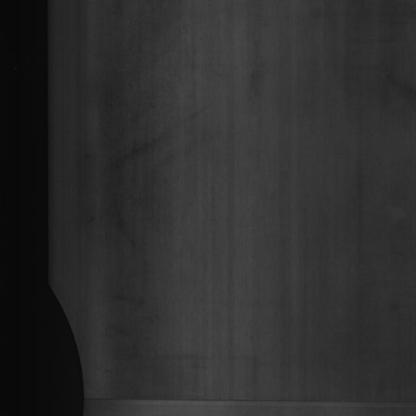crescent_gap: (43, 248, 93, 416)
welding_line: (75, 389, 416, 412)
